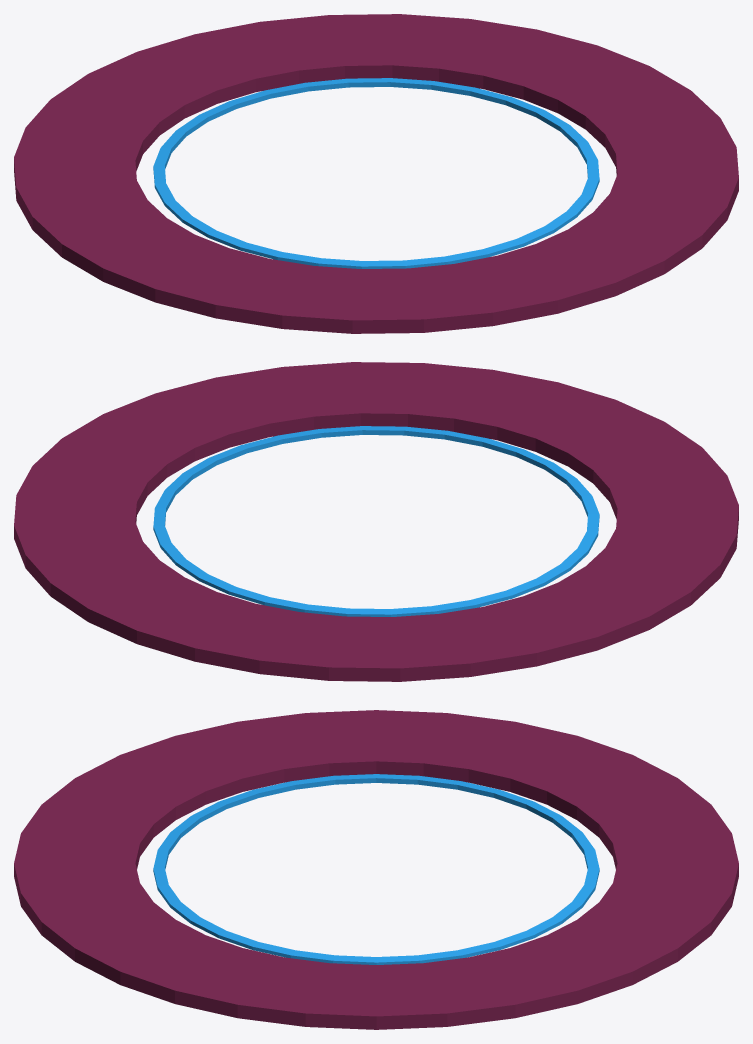
File: ring.glb
3 views of the same model, one above another, from view 1: azimuth 30°, elevation 25°; view 2: azimuth 150°, elevation 25°; view 3: azimuth 270°, elevation 25° (orthographic).
Visible parts, largest first — view 1: Ring, Smaller Ring; view 2: Ring, Smaller Ring; view 3: Ring, Smaller Ring.
Boxes of the visible parts, box(x1,y1,x2,y2) form: Ring: box(14, 14, 738, 333); Smaller Ring: box(153, 78, 599, 268); Ring: box(14, 362, 738, 681); Smaller Ring: box(153, 426, 599, 616); Ring: box(14, 710, 738, 1029); Smaller Ring: box(153, 774, 599, 964).
Size of the model in its own units: 1.56 by 0.032 by 1.56.
